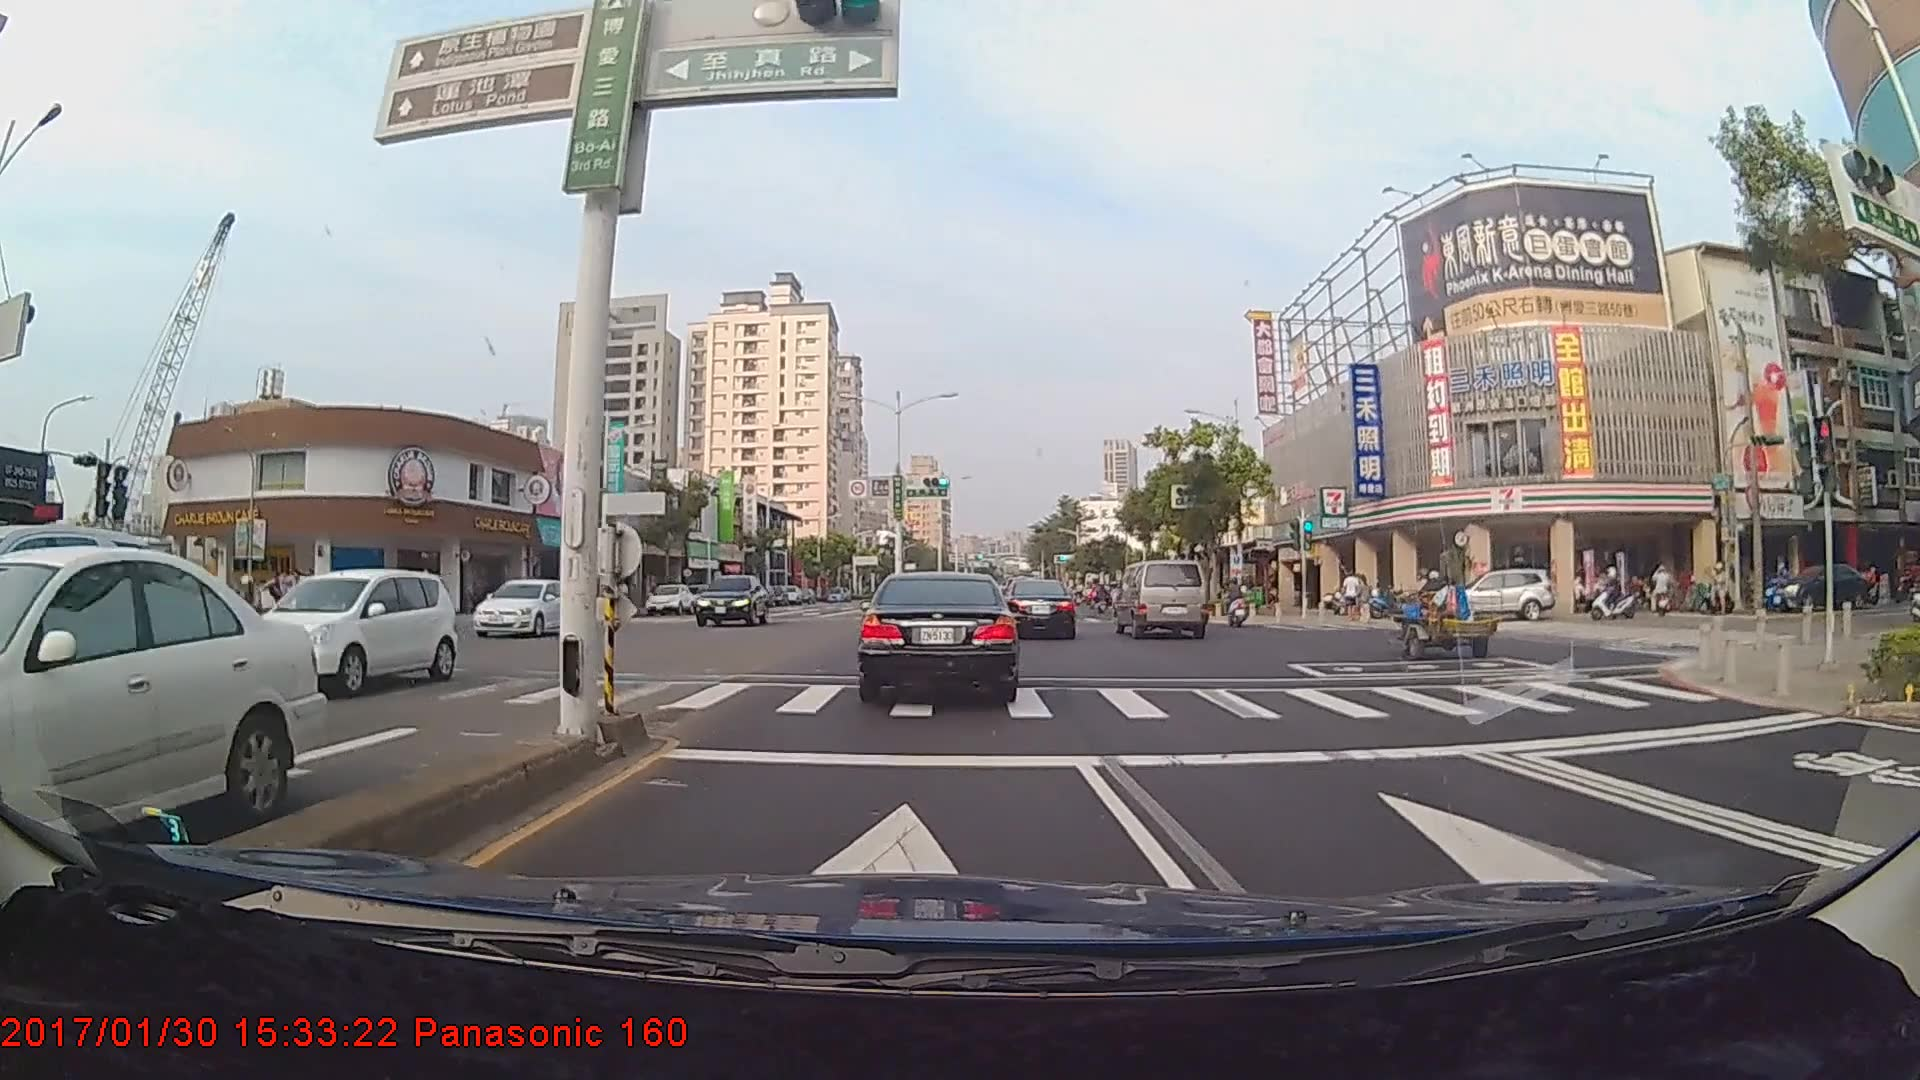pedestrian: (1342, 569, 1362, 620)
rider: (1586, 563, 1649, 628), (1216, 577, 1254, 630)
vehicle: (0, 548, 281, 864), (0, 524, 155, 749), (227, 564, 456, 698), (860, 566, 1016, 705), (1115, 559, 1210, 639), (1421, 571, 1553, 624), (467, 573, 573, 637), (1003, 577, 1078, 639), (694, 574, 769, 628), (646, 582, 693, 614)
